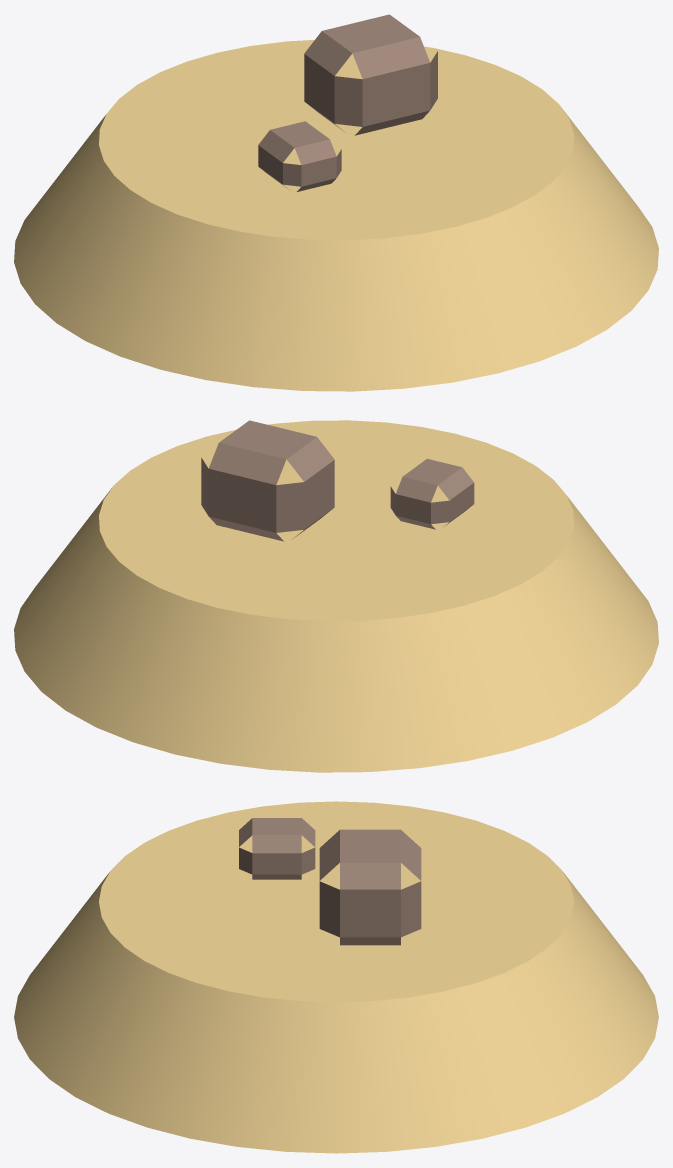
File: islet.glb
3 renders of one model, top to bottom at view 1: azimuth 30°, elevation 25°; view 2: azimuth 150°, elevation 25°; view 3: azimuth 270°, elevation 25°, orthographic.
Parts seen in each view (by area): view 1: islet; view 2: islet; view 3: islet.
Boxes of the visible parts, box(x1,y1,x2,y2) form: islet: box(14, 14, 658, 391); islet: box(14, 420, 658, 772); islet: box(14, 801, 658, 1153).
Bounding box in the file's own units: 3.8 × 1.28 × 3.8.
